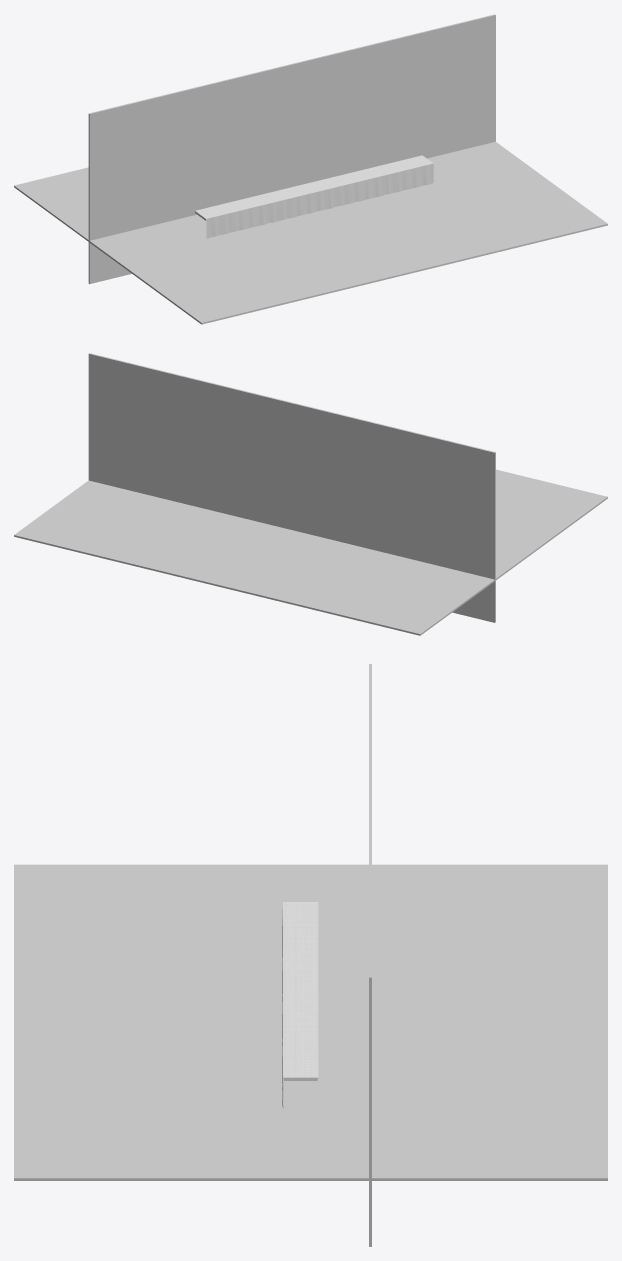
The model's file is salon.glb.
3 views of the same model, one above another, from view 1: azimuth 30°, elevation 25°; view 2: azimuth 150°, elevation 25°; view 3: azimuth 270°, elevation 25° (orthographic). The views are drawn at different scales.
Parts seen in each view (by area): view 1: White studio wall, White studio floor, White tablecloth drape, White linen tabletop; view 2: White studio wall, White studio floor; view 3: White studio floor, White linen tabletop, White studio wall.
Part boxes in pixels (x1,y1,x2,y2): White studio wall: (88, 14, 495, 284); White studio floor: (14, 141, 607, 324); White tablecloth drape: (206, 163, 433, 238); White linen tabletop: (195, 155, 433, 218); White studio wall: (88, 353, 495, 622); White studio floor: (14, 469, 607, 635); White studio floor: (14, 864, 607, 1180); White linen tabletop: (283, 902, 318, 1078); White studio wall: (369, 664, 371, 1246).
Size of the model in its own units: 50 by 20 by 40.
Materials: 2 (1 with a texture image).
